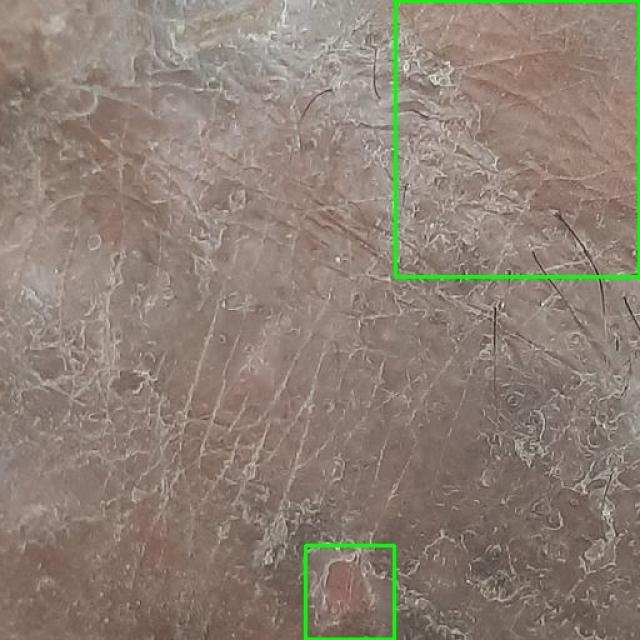Eczema: (395, 0, 639, 278), (305, 545, 394, 639)
